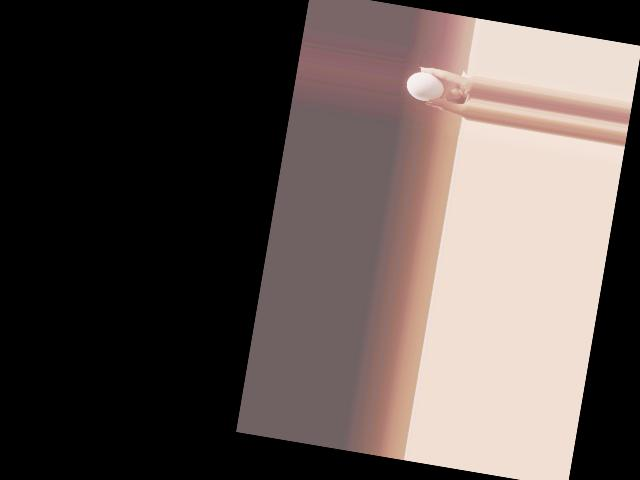egg: (404, 69, 446, 104)
